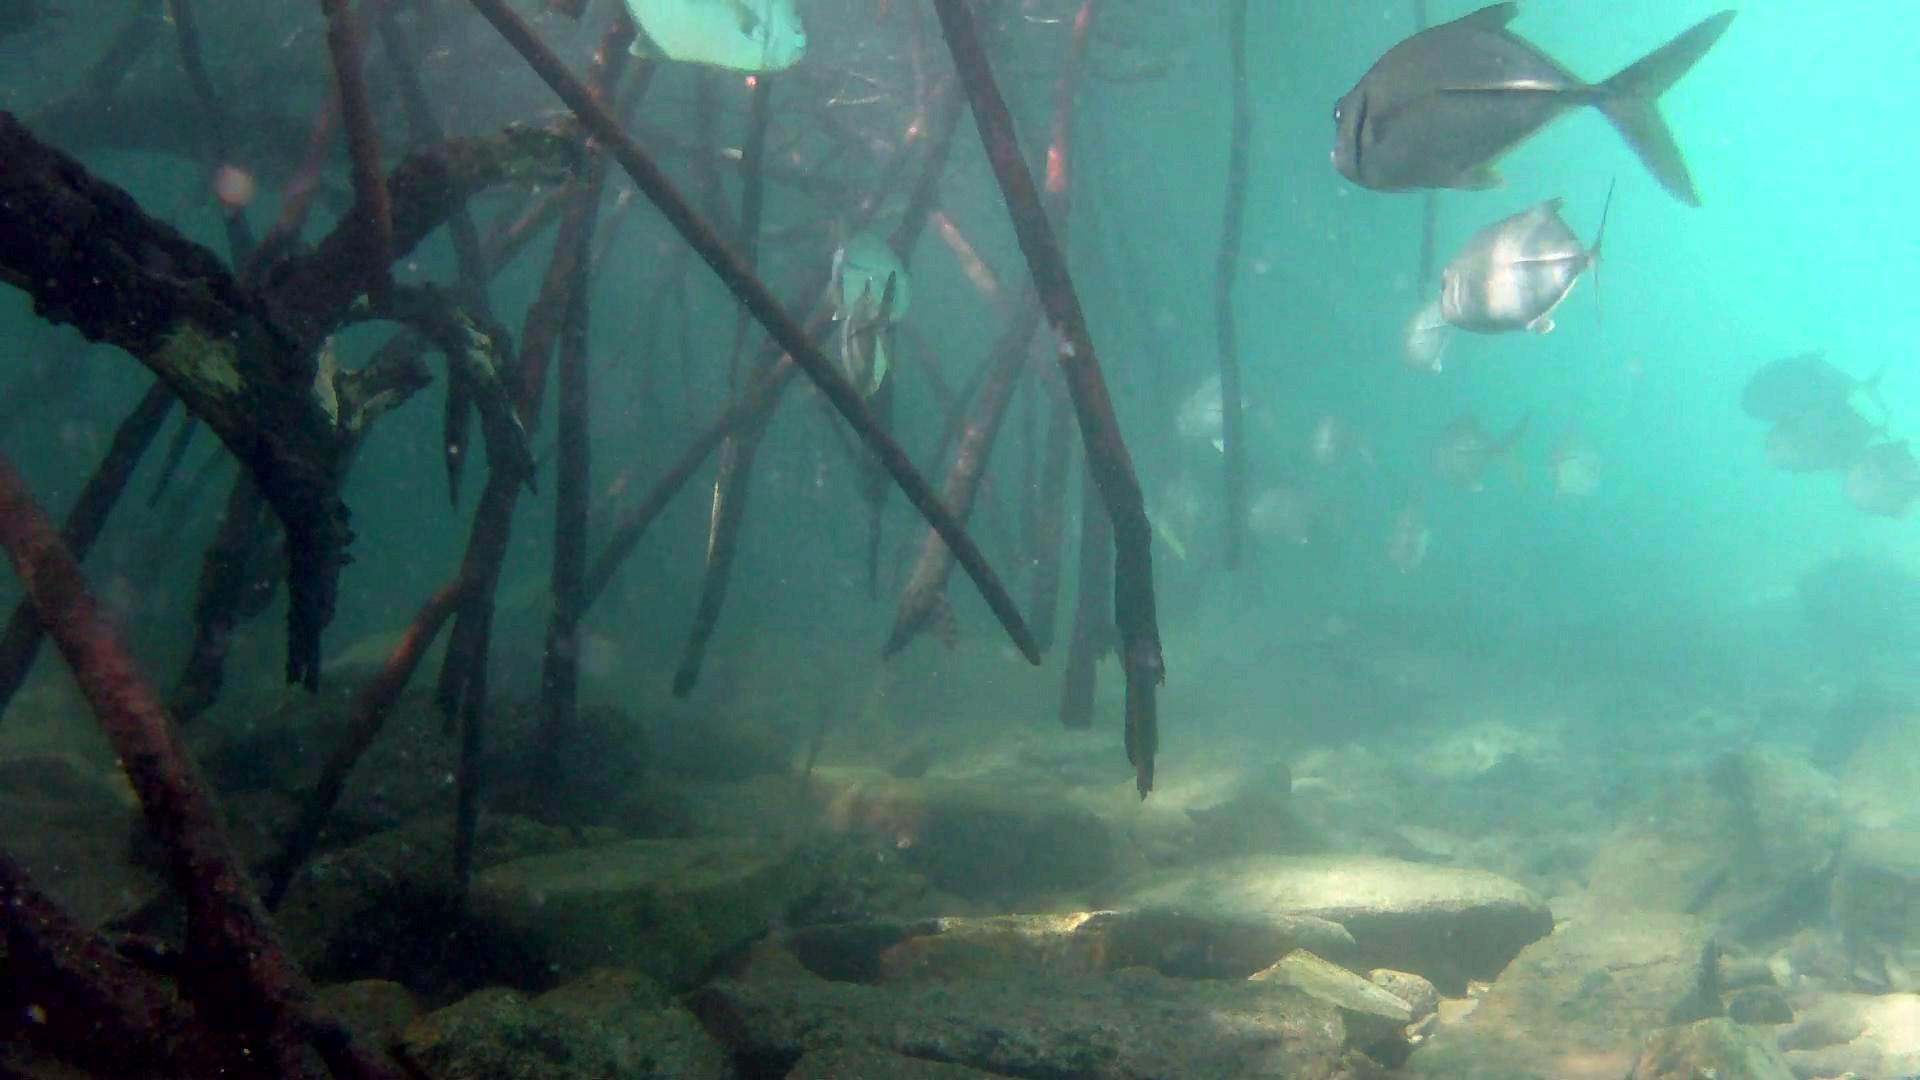caranx: (1320, 0, 1737, 223), (1435, 183, 1635, 344), (598, 0, 835, 84)
